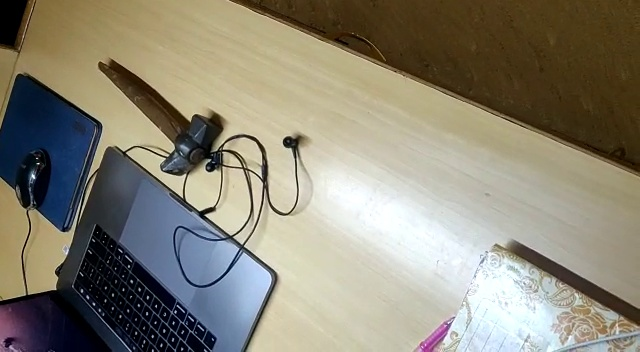hammer: (96, 59, 223, 177)
